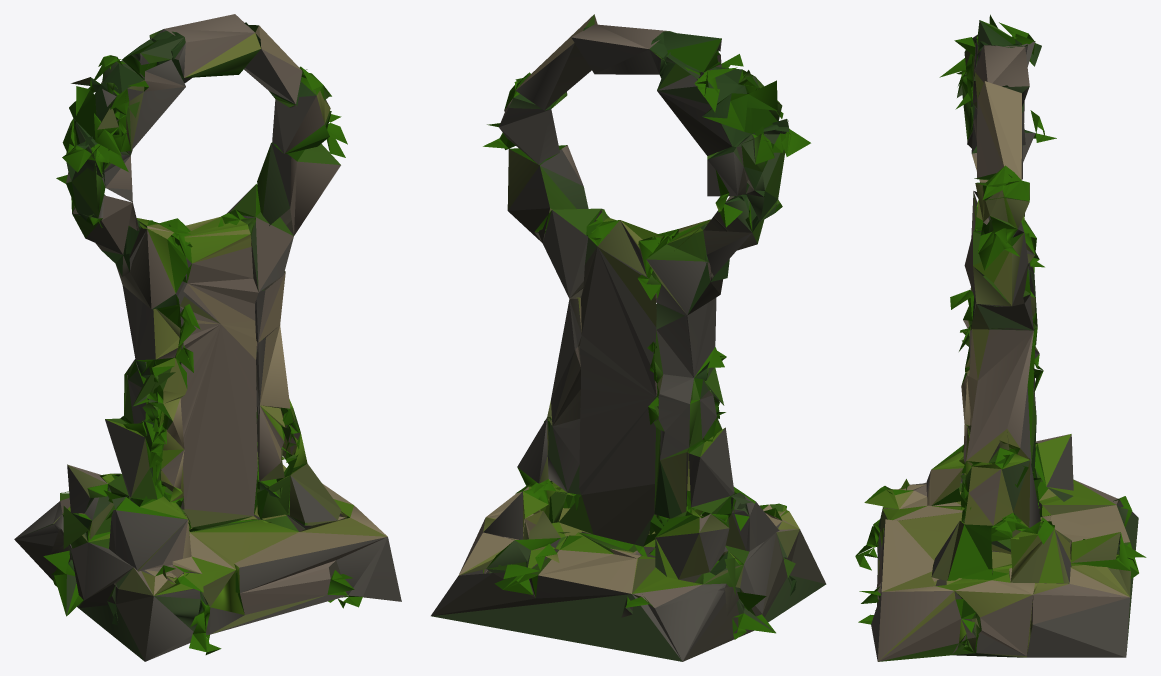
The model's file is shrine.glb.
The picture shows the model from 3 angles, left to right: view 1: azimuth 30°, elevation 25°; view 2: azimuth 150°, elevation 25°; view 3: azimuth 270°, elevation 25°; orthographic projection. The views are drawn at different scales.
Visible parts, largest first — view 1: shrine; view 2: shrine; view 3: shrine.
Boxes of the visible parts, x1,y1,x2,y2 form: shrine: (14, 14, 401, 661); shrine: (431, 14, 826, 661); shrine: (855, 14, 1146, 661).
Size of the model in its own units: 2.87 by 5.29 by 2.56.
